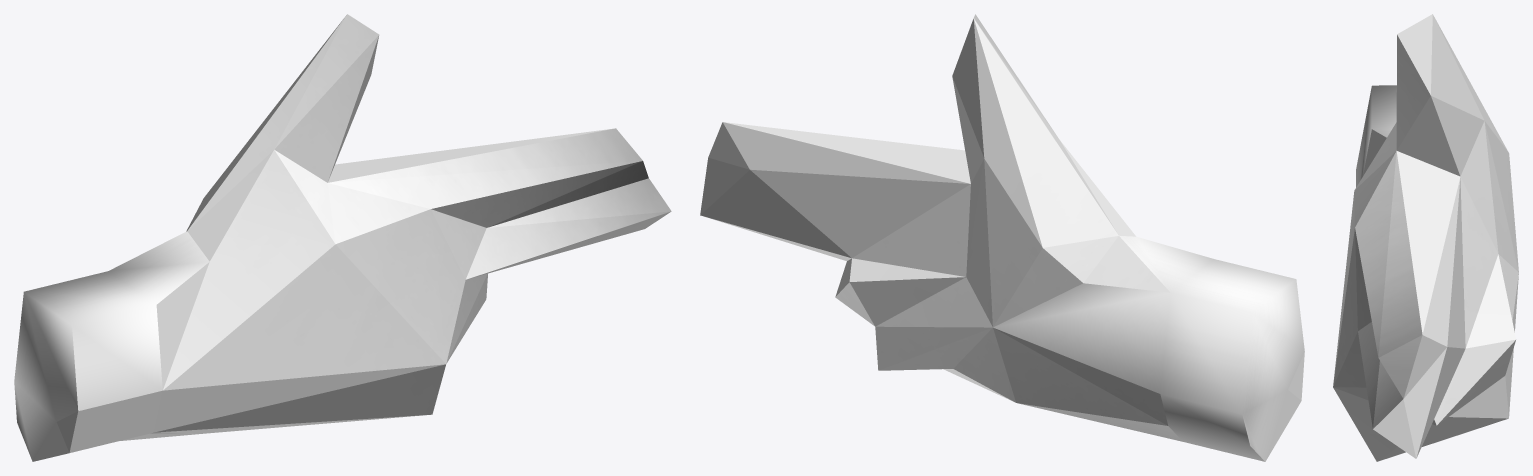
Rendered from Arrow.glb.
The picture shows the model from 3 angles, left to right: view 1: azimuth 30°, elevation 25°; view 2: azimuth 150°, elevation 25°; view 3: azimuth 270°, elevation 25°; orthographic projection. The views are drawn at different scales.
Visible parts, largest first — view 1: RTJ4_hands_highRes; view 2: RTJ4_hands_highRes; view 3: RTJ4_hands_highRes.
Part boxes in pixels (x1=…): RTJ4_hands_highRes: x1=14, y1=14, x2=671, y2=461; RTJ4_hands_highRes: x1=700, y1=14, x2=1304, y2=461; RTJ4_hands_highRes: x1=1333, y1=14, x2=1518, y2=461.
Size of the model in its own units: 1.02 by 0.64 by 0.2582.
1 material, 1 textured.
